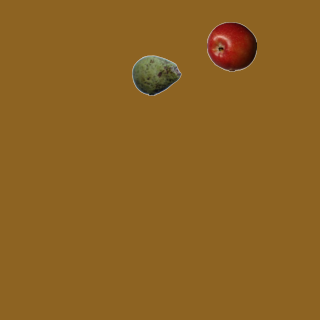Apple Braeburn: (206, 21, 256, 71)
Pear Stone: (131, 50, 181, 100)
